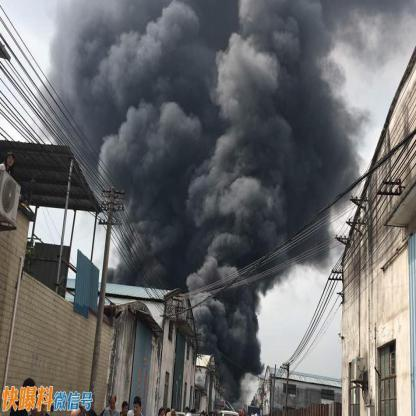smoke: (195, 77, 265, 160), (199, 296, 265, 381), (49, 2, 124, 74), (127, 80, 194, 158), (126, 3, 202, 71), (267, 76, 330, 158), (197, 166, 274, 230), (204, 4, 276, 72), (41, 78, 121, 135), (278, 3, 344, 71), (131, 219, 193, 285), (197, 234, 262, 296), (346, 2, 410, 64), (330, 82, 374, 166), (129, 164, 192, 221), (279, 169, 338, 225), (266, 230, 334, 274), (92, 138, 124, 184)
